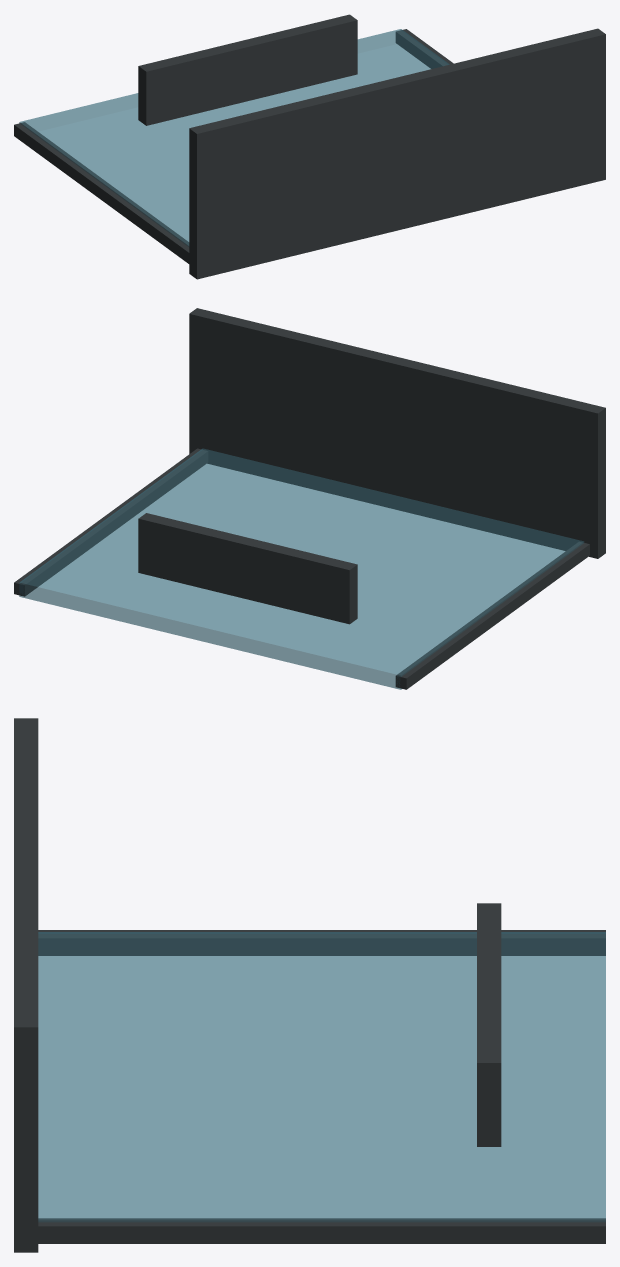
File: bus_shelter.obj
The picture shows the model from 3 angles, top to bottom: view 1: azimuth 30°, elevation 25°; view 2: azimuth 150°, elevation 25°; view 3: azimuth 270°, elevation 25°; orthographic projection. The views are drawn at different scales.
Parts seen in each view (by area): view 1: bus_shelter; view 2: bus_shelter; view 3: bus_shelter.
Boxes of the visible parts, box(x1,y1,x2,y2) form: bus_shelter: box(14, 14, 605, 279); bus_shelter: box(14, 308, 605, 689); bus_shelter: box(14, 718, 605, 1252).
Size of the model in its own units: 3 by 1.02 by 2.43.
